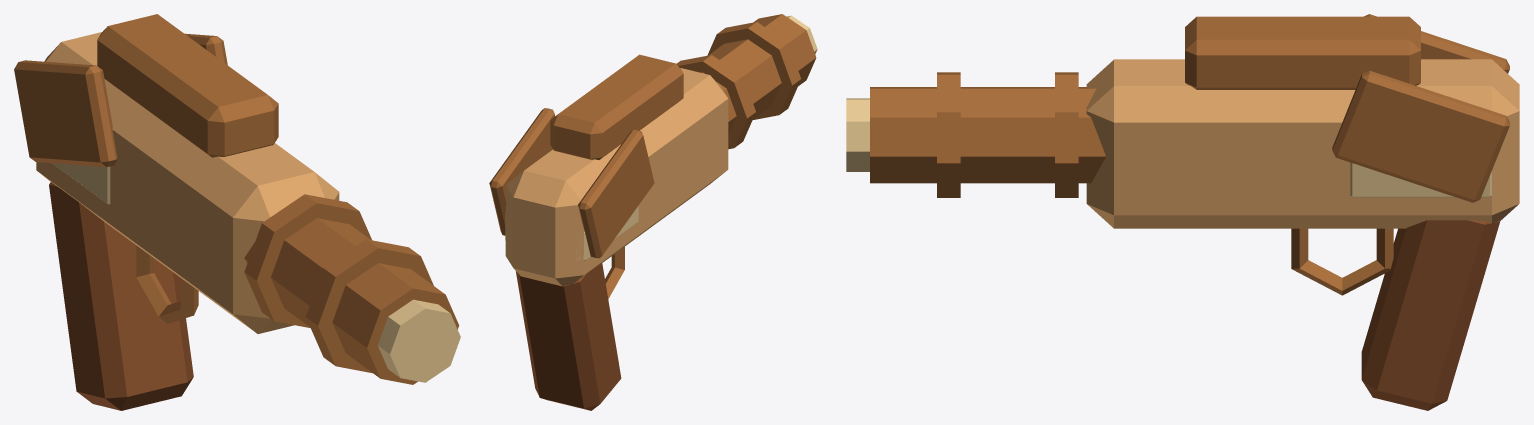
The model's file is WoodLaserBlaster.fbx.
The picture shows the model from 3 angles, left to right: view 1: azimuth 30°, elevation 25°; view 2: azimuth 150°, elevation 25°; view 3: azimuth 270°, elevation 25°; orthographic projection. The views are drawn at different scales.
Visible parts, largest first — view 1: WoodLaserBlaster; view 2: WoodLaserBlaster; view 3: WoodLaserBlaster.
Boxes of the visible parts, left/top/right/bottom form: WoodLaserBlaster: left=14, top=14, right=460, bottom=410; WoodLaserBlaster: left=489, top=14, right=817, bottom=410; WoodLaserBlaster: left=846, top=14, right=1519, bottom=410.
Bounding box in the file's own units: 0.78 × 2.07 × 3.42.
1 material, 1 textured.
